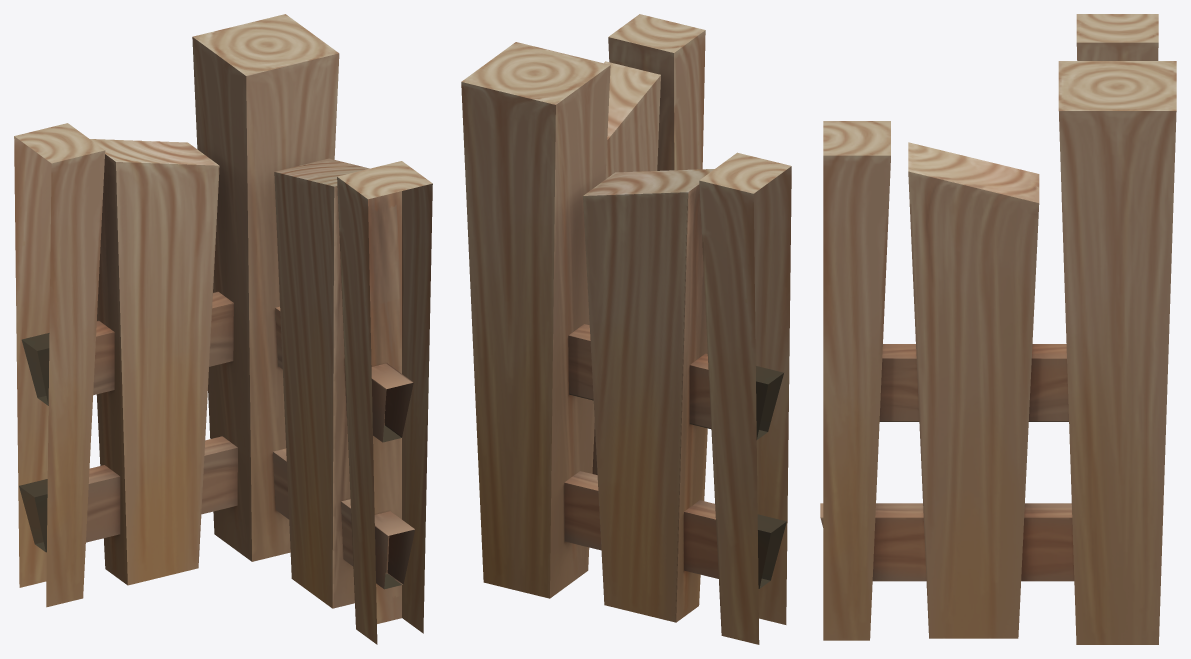
Rendered from fence2_corner2.FBX.
3 views of the same model, side by side, from view 1: azimuth 30°, elevation 25°; view 2: azimuth 150°, elevation 25°; view 3: azimuth 270°, elevation 25° (orthographic). The views are drawn at different scales.
Parts seen in each view (by area): view 1: fence2_corner2; view 2: fence2_corner2; view 3: fence2_corner2.
Part boxes in pixels (x1=…): fence2_corner2: x1=14, y1=14, x2=432, y2=644; fence2_corner2: x1=461, y1=14, x2=791, y2=644; fence2_corner2: x1=820, y1=14, x2=1176, y2=644.
Size of the model in its own units: 30.66 by 50.83 by 30.25.
1 material, 1 textured.
